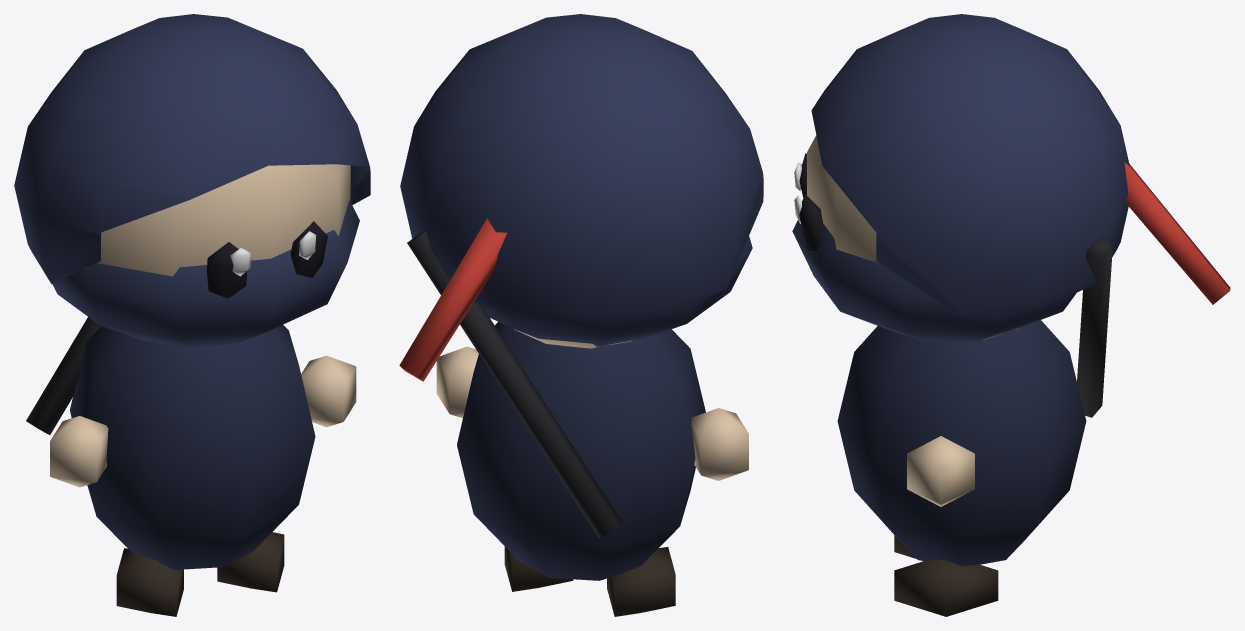
The model's file is shinobi.glb.
The picture shows the model from 3 angles, left to right: view 1: azimuth 30°, elevation 25°; view 2: azimuth 150°, elevation 25°; view 3: azimuth 270°, elevation 25°; orthographic projection. The views are drawn at different scales.
Parts seen in each view (by area): view 1: Shinobi; view 2: Shinobi; view 3: Shinobi.
Boxes of the visible parts, x1=… form: Shinobi: x1=14, y1=14, x2=370, y2=616; Shinobi: x1=399, y1=14, x2=763, y2=616; Shinobi: x1=792, y1=14, x2=1230, y2=616.
Bounding box in the file's own units: 0.683 × 1.18 × 0.8367.
